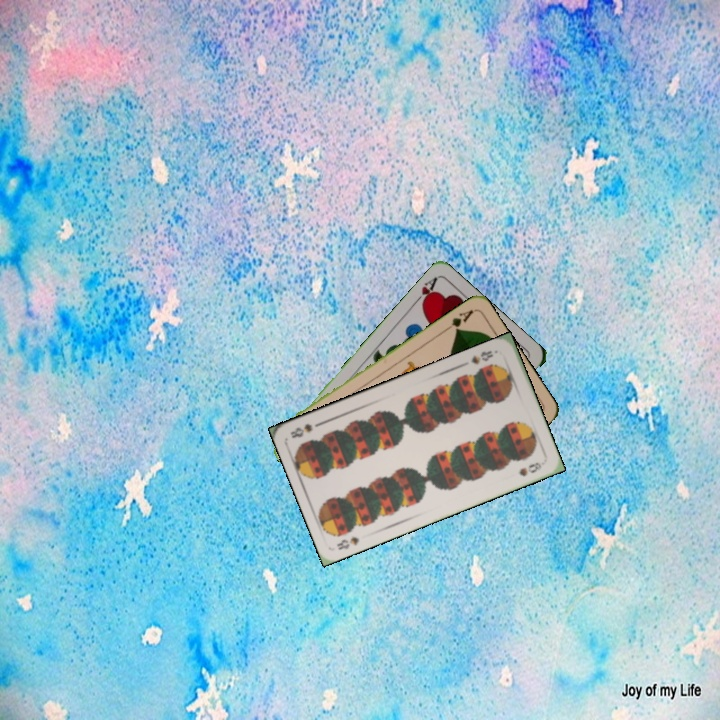GA: (440, 305, 476, 334)
HA: (409, 273, 440, 310)
S8: (467, 346, 496, 367), (333, 532, 362, 553)
